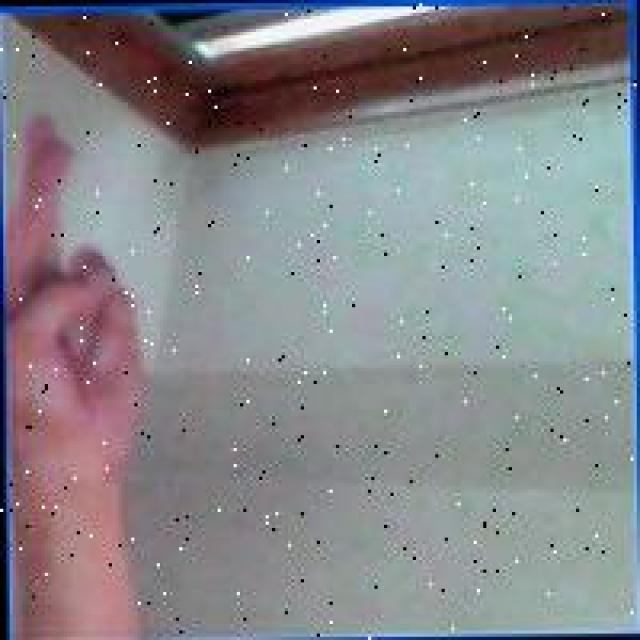R: (2, 114, 152, 523)
